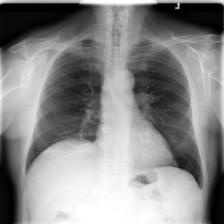normal: (19, 31, 206, 195)
